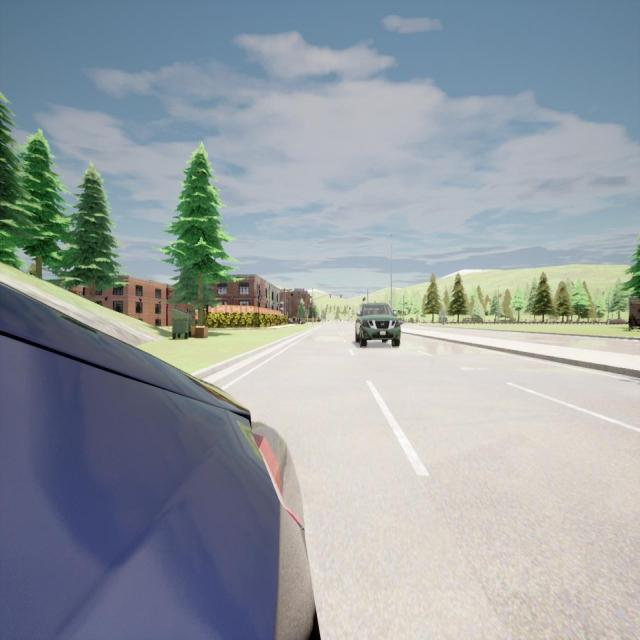Pedestrian: (296, 315, 300, 325), (292, 315, 296, 323)
Vehicle: (0, 264, 320, 638), (355, 303, 401, 347)
traffic_light: (363, 297, 365, 301), (340, 295, 342, 298), (330, 295, 331, 298)
